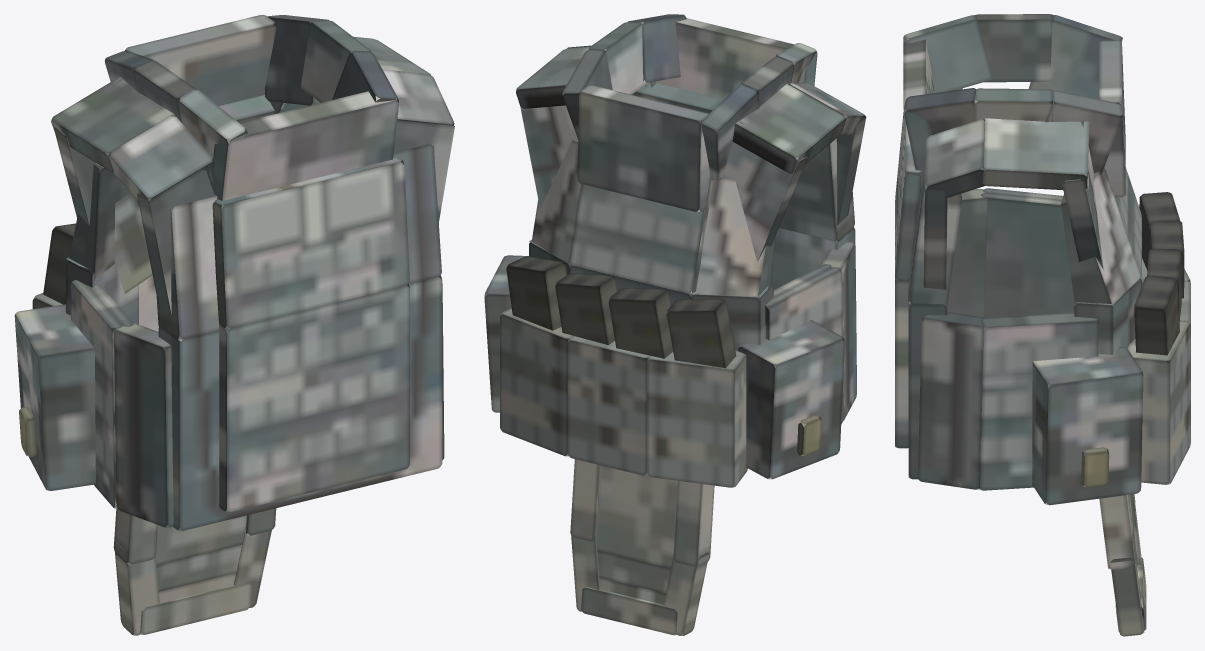
The model's file is us_mobilized.obj.
The picture shows the model from 3 angles, left to right: view 1: azimuth 30°, elevation 25°; view 2: azimuth 150°, elevation 25°; view 3: azimuth 270°, elevation 25°; orthographic projection. The views are drawn at different scales.
Visible parts, largest first — view 1: mesh; view 2: mesh; view 3: mesh.
Part boxes in pixels (x1=…): mesh: x1=14, y1=15, x2=454, y2=635; mesh: x1=484, y1=14, x2=866, y2=635; mesh: x1=895, y1=14, x2=1190, y2=636.
Size of the model in its own units: 0.8039 by 1.19 by 0.575.
